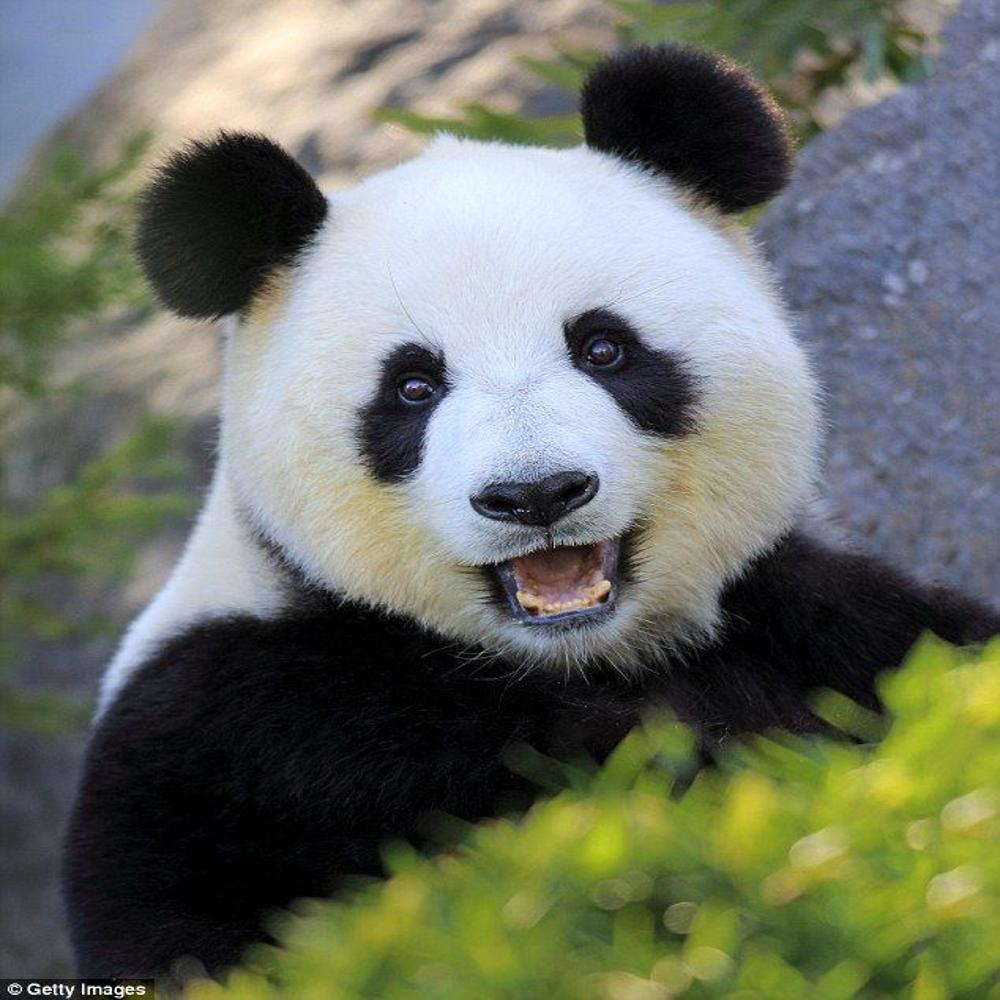panda: (116, 42, 944, 858)
